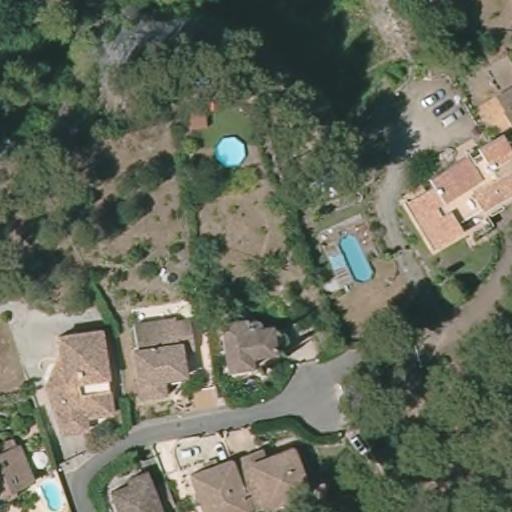pool: (326, 223, 378, 285), (211, 130, 249, 170), (33, 468, 65, 507)
